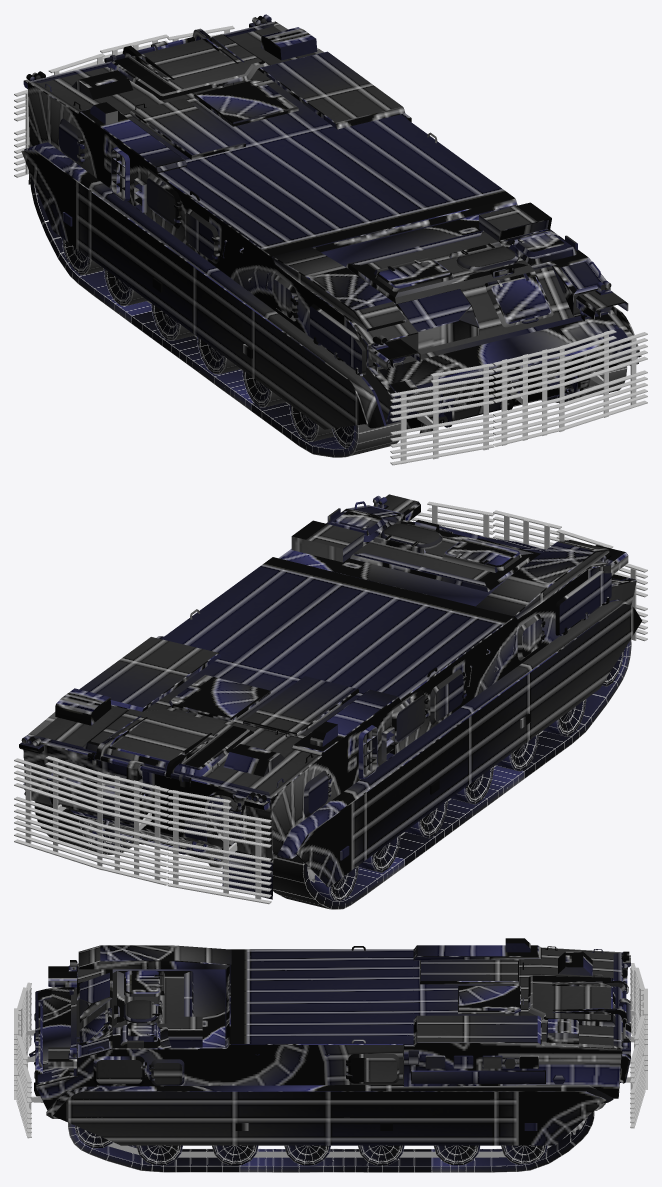
Rendered from tunguska.FBX.
3 views of the same model, one above another, from view 1: azimuth 30°, elevation 25°; view 2: azimuth 150°, elevation 25°; view 3: azimuth 270°, elevation 25° (orthographic). The views are drawn at different scales.
Parts seen in each view (by area): view 1: Tunguska_korpus, reshotka_front, Gusenitsa001, Rehsotka_back, weel013, weel011, weel012, weel010, weel009, weel008; view 2: Tunguska_korpus, Rehsotka_back, Gusenitsa001, reshotka_front, Gusenitsa, weel008, weel010, weel011, weel012, weel009, weel013; view 3: Tunguska_korpus, Gusenitsa, Rehsotka_back, reshotka_front, turret, weel04, weel05, weel03, weel06, weel02, weel01, weel07.
Part boxes in pixels (left/top/right/bottom): Tunguska_korpus: left=21, top=14, right=641, bottom=433; reshotka_front: left=390, top=329, right=647, bottom=465; Gusenitsa001: left=30, top=175, right=400, bottom=457; Rehsotka_back: left=14, top=25, right=234, bottom=177; weel013: left=289, top=404, right=334, bottom=441; weel011: left=197, top=337, right=240, bottom=374; weel012: left=242, top=370, right=285, bottom=407; weel010: left=151, top=303, right=194, bottom=340; weel009: left=103, top=268, right=147, bottom=305; weel008: left=61, top=238, right=103, bottom=275; Tunguska_korpus: left=19, top=494, right=642, bottom=899; Rehsotka_back: left=14, top=756, right=271, bottom=904; Gusenitsa001: left=273, top=639, right=631, bottom=909; reshotka_front: left=411, top=501, right=647, bottom=641; Gusenitsa: left=34, top=801, right=132, bottom=854; weel008: left=310, top=865, right=358, bottom=900; weel010: left=404, top=800, right=448, bottom=838; weel011: left=450, top=766, right=493, bottom=804; weel012: left=495, top=733, right=539, bottom=771; weel009: left=358, top=835, right=400, bottom=872; weel013: left=543, top=699, right=586, bottom=736; Tunguska_korpus: left=29, top=938, right=630, bottom=1145; Gusenitsa: left=68, top=1111, right=594, bottom=1172; Rehsotka_back: left=621, top=963, right=647, bottom=1128; reshotka_front: left=14, top=982, right=43, bottom=1138; turret: left=108, top=1131, right=571, bottom=1157; weel04: left=284, top=1145, right=330, bottom=1165; weel05: left=212, top=1145, right=258, bottom=1165; weel03: left=358, top=1145, right=404, bottom=1165; weel06: left=136, top=1145, right=182, bottom=1165; weel02: left=434, top=1145, right=480, bottom=1165; weel01: left=501, top=1145, right=547, bottom=1164; weel07: left=75, top=1126, right=113, bottom=1148.
Bounding box in the file's own units: 307 × 181 × 757.
